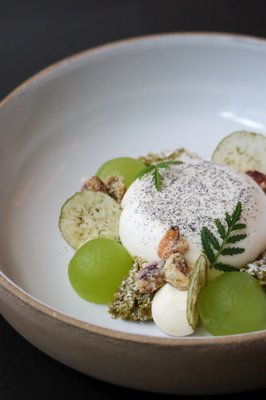sushi: (1, 91, 266, 394)
